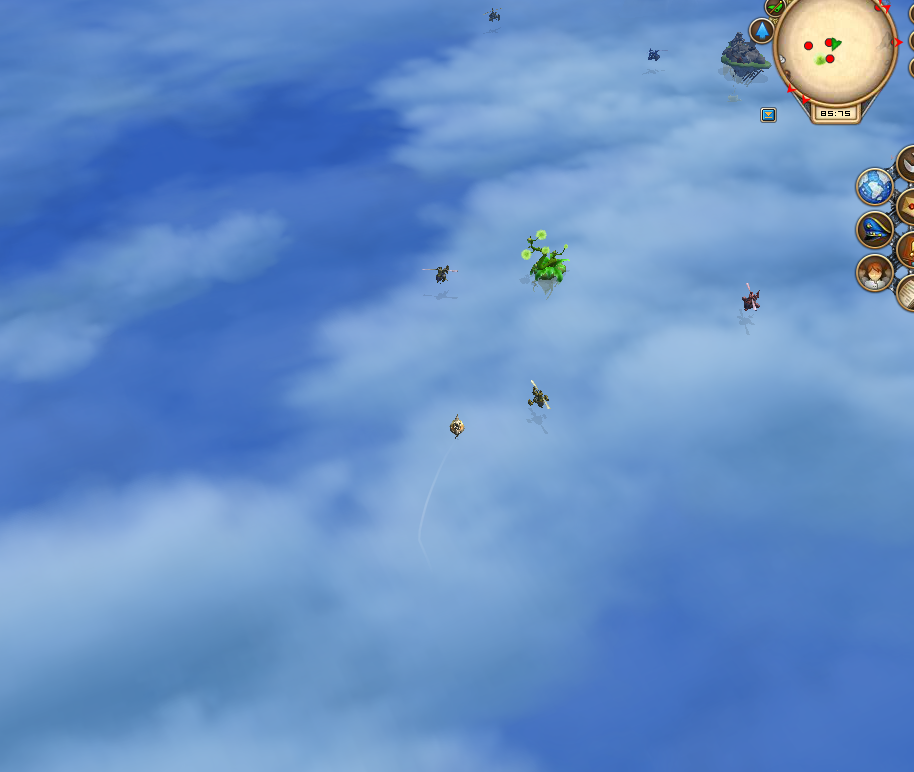dandelion-full: (518, 225, 574, 293)
